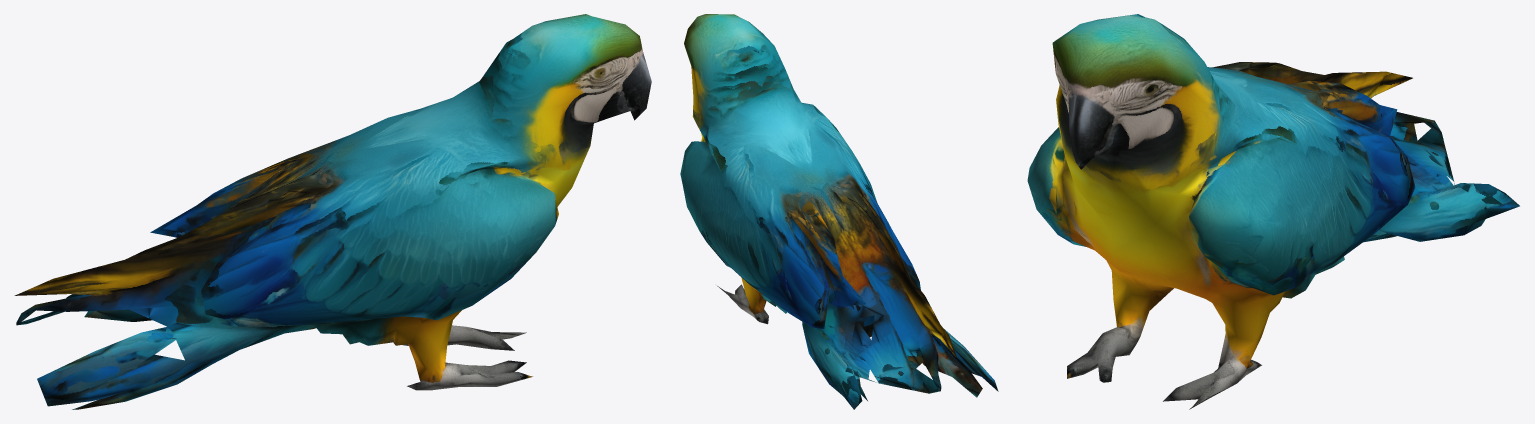
The model's file is parrot_yellow_blue_single_1500.glb.
The picture shows the model from 3 angles, left to right: view 1: azimuth 30°, elevation 25°; view 2: azimuth 150°, elevation 25°; view 3: azimuth 270°, elevation 25°; orthographic projection. The views are drawn at different scales.
Size of the model in its own units: 0.8482 by 0.5471 by 0.5903.
Materials: 1 (1 with a texture image).
